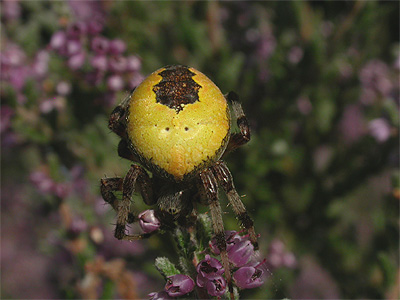spider: (92, 52, 269, 294)
